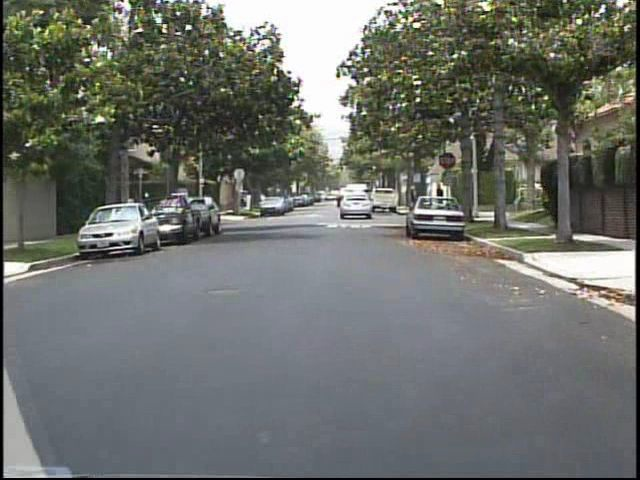person: (127, 190, 143, 229), (431, 181, 448, 213)
